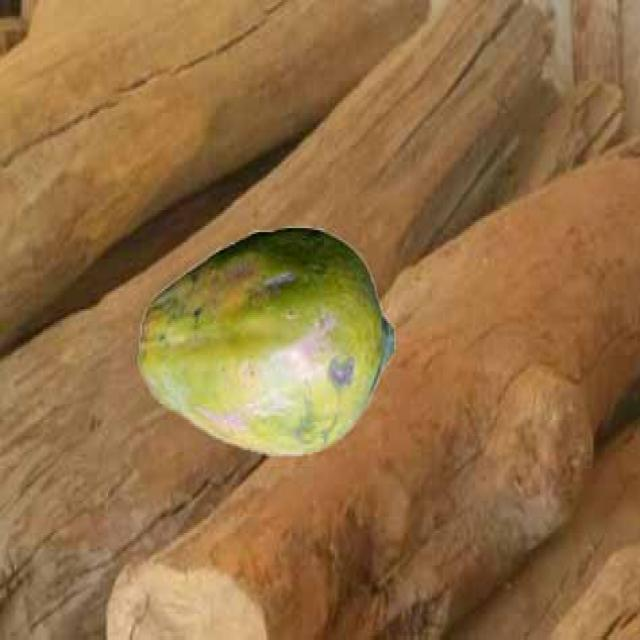Pepaya rippen: (136, 224, 409, 473)
